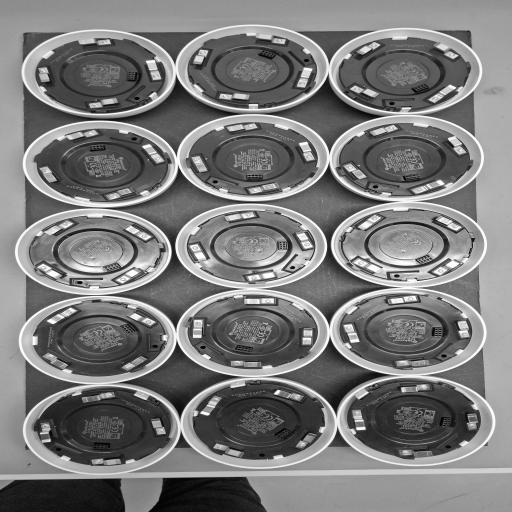konnektor: (272, 428, 294, 441), (228, 344, 256, 354), (413, 254, 434, 266), (88, 442, 114, 451), (116, 324, 138, 334), (410, 84, 432, 94), (256, 50, 280, 59), (438, 416, 453, 430), (242, 172, 268, 180), (401, 172, 423, 181), (86, 145, 112, 152), (432, 325, 444, 340), (102, 262, 120, 272), (125, 70, 140, 82), (275, 240, 289, 252)
yaysiz: (42, 306, 80, 330), (38, 220, 75, 241), (350, 256, 388, 275), (440, 134, 470, 158), (346, 84, 388, 101), (428, 82, 460, 104), (38, 352, 73, 372), (412, 178, 450, 196), (430, 257, 466, 276), (428, 40, 461, 60), (194, 395, 224, 417), (291, 65, 317, 90), (144, 414, 170, 439), (350, 40, 386, 58), (140, 142, 168, 165), (103, 185, 143, 201), (118, 223, 153, 241), (74, 390, 119, 404), (141, 58, 166, 83), (212, 90, 259, 103), (212, 443, 250, 459), (85, 96, 125, 111), (250, 31, 290, 46), (229, 356, 269, 371), (432, 214, 465, 232), (126, 309, 159, 327), (70, 36, 118, 48), (116, 266, 148, 284), (188, 154, 214, 176), (340, 320, 362, 346), (36, 419, 58, 445), (222, 120, 262, 134), (38, 165, 66, 185), (295, 139, 318, 163), (296, 428, 321, 450), (245, 181, 284, 195), (60, 129, 102, 142), (220, 210, 259, 224), (343, 162, 370, 182), (37, 263, 67, 281), (356, 214, 386, 232), (90, 454, 134, 466), (188, 48, 217, 66), (366, 124, 403, 138), (391, 357, 434, 369), (395, 447, 441, 458), (188, 243, 212, 264), (122, 354, 150, 372), (267, 387, 303, 401), (188, 316, 207, 342), (350, 408, 368, 435), (36, 65, 57, 88), (452, 316, 473, 339), (294, 324, 314, 348), (384, 294, 423, 306), (244, 270, 282, 282), (294, 228, 315, 249), (394, 383, 434, 394), (240, 296, 280, 306), (464, 410, 480, 432)
